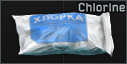Pack of chlorine: (0, 0, 127, 64)
